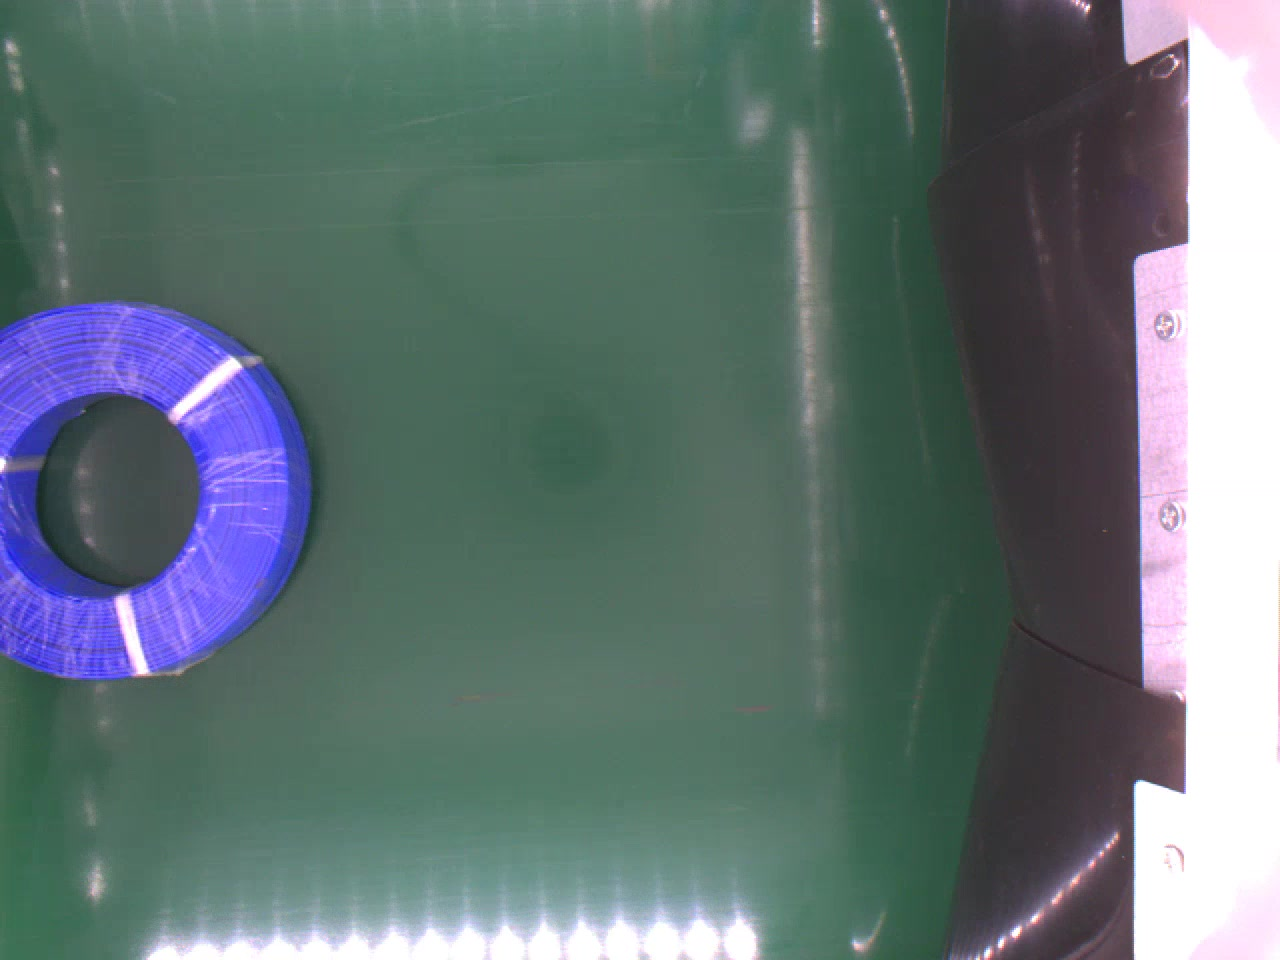blue: (0, 299, 311, 682)
